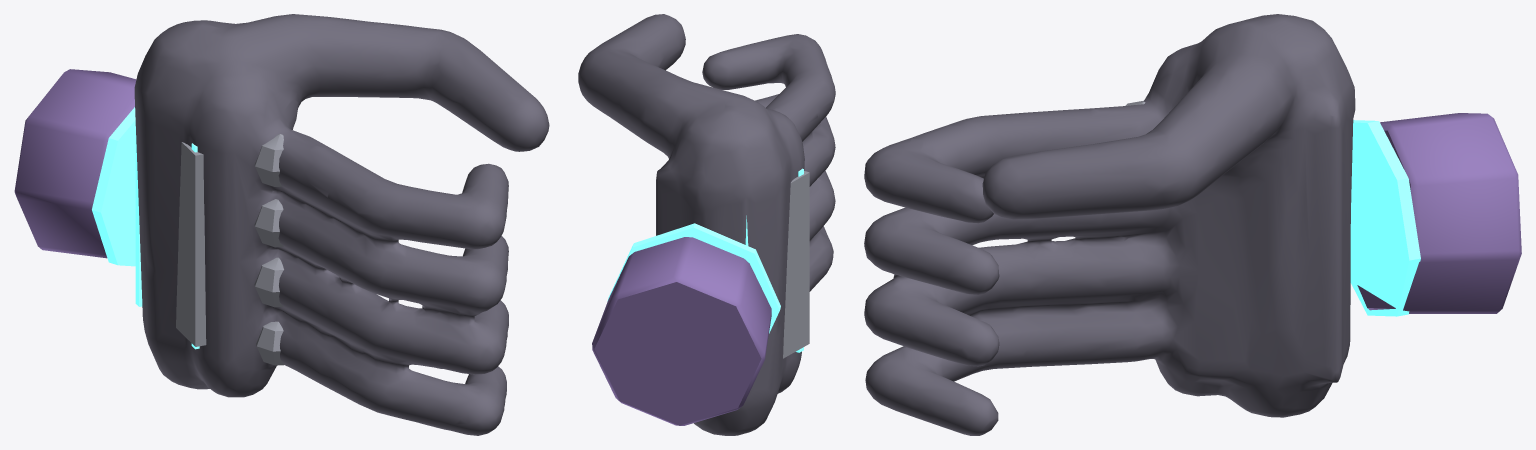
The model's file is w_hand_grip.glb.
3 views of the same model, side by side, from view 1: azimuth 30°, elevation 25°; view 2: azimuth 150°, elevation 25°; view 3: azimuth 270°, elevation 25° (orthographic). The views are drawn at different scales.
Visible parts, largest first — view 1: glove, sleeve, body, acc; view 2: glove, sleeve, body, acc; view 3: glove, sleeve, acc.
Boxes of the visible parts, x1,y1,x2,y2 form: glove: (134,14,549,435); sleeve: (14,69,136,258); body: (176,134,284,365); acc: (92,107,199,349); glove: (578,14,835,435); sleeve: (592,237,771,425); body: (783,171,809,358); acc: (607,168,803,352); glove: (864,14,1355,435); sleeve: (1357,113,1521,313); acc: (1350,120,1420,316).
Bounding box in the file's own units: 0.1283 × 0.1322 × 0.1994.
